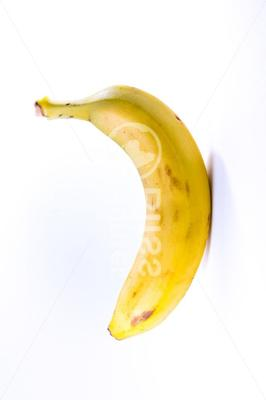banana: (0, 0, 266, 400)
